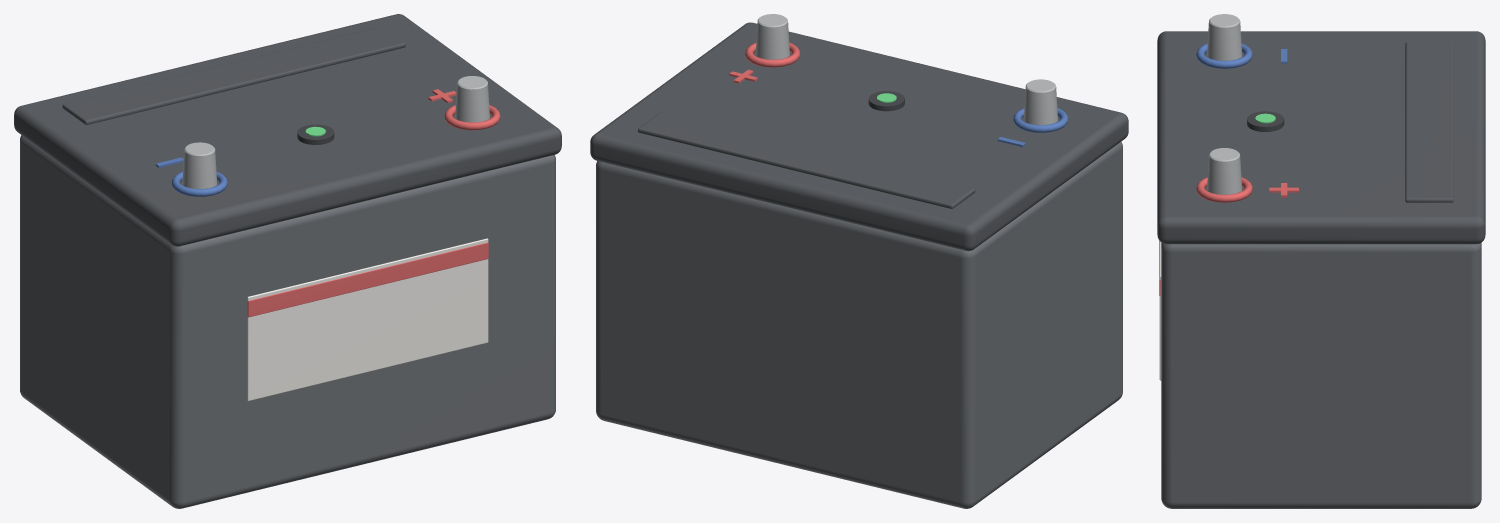
The model's file is battery.glb.
3 renders of one model, left to right at view 1: azimuth 30°, elevation 25°; view 2: azimuth 150°, elevation 25°; view 3: azimuth 270°, elevation 25°, orthographic. The views are drawn at different scales.
Visible parts, largest first — view 1: case, lid, negative_post, positive_post, indicator; view 2: case, lid, negative_post, positive_post, indicator; view 3: case, lid, negative_post, positive_post, indicator.
Part boxes in pixels (x1=…): case: x1=20, y1=135, x2=555, y2=508; lid: x1=14, y1=14, x2=561, y2=246; negative_post: x1=171, y1=142, x2=227, y2=196; positive_post: x1=444, y1=76, x2=500, y2=130; indicator: x1=297, y1=124, x2=334, y2=144; case: x1=596, y1=141, x2=1122, y2=508; lid: x1=590, y1=22, x2=1128, y2=251; negative_post: x1=1013, y1=79, x2=1068, y2=132; positive_post: x1=745, y1=14, x2=800, y2=67; indicator: x1=868, y1=91, x2=904, y2=111; case: x1=1159, y1=241, x2=1481, y2=508; lid: x1=1157, y1=31, x2=1485, y2=244; negative_post: x1=1196, y1=14, x2=1252, y2=68; positive_post: x1=1196, y1=148, x2=1252, y2=202; indicator: x1=1247, y1=111, x2=1284, y2=131.
Size of the model in its own units: 244 by 196 by 176.
